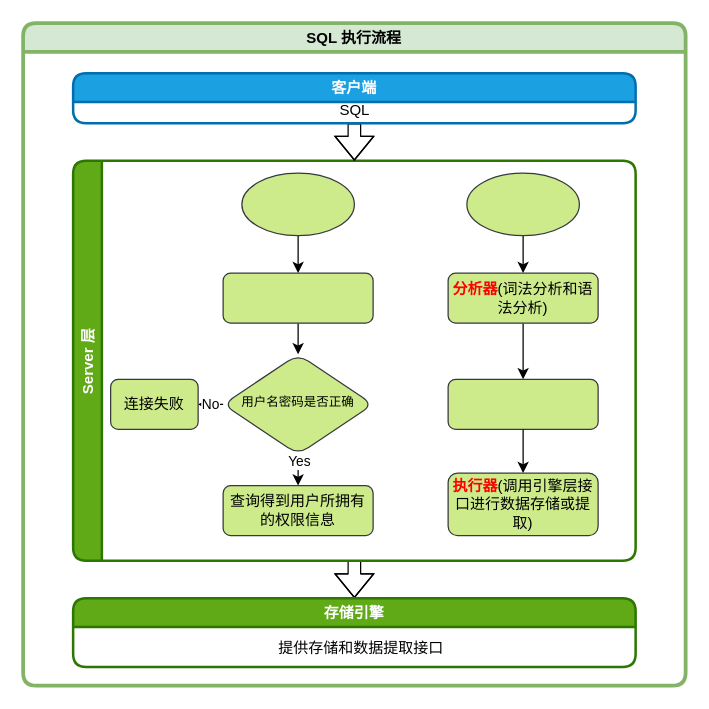
The diagram is 709 pixels wide and 709 high, and some of its shapes have lost their labels. Here are the shapes that lost their labels. From the top down, the centre of each, then its label:
pixel 297 204: ① 建立连接
pixel 522 204: ② 执行 SQL
pixel 297 297: 连接器 (建立连接)
pixel 522 403: 优化器 (SQL 执行前的优化，索引选择)
